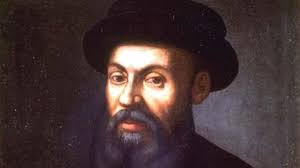No-Glasses: (102, 59, 180, 98)
